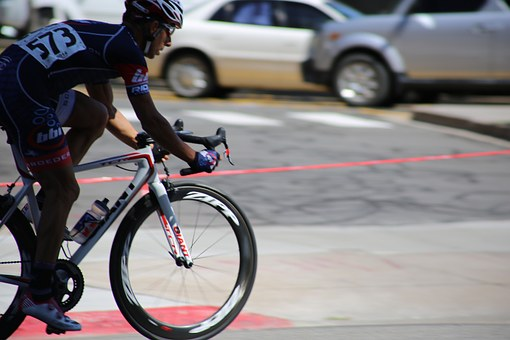bikerider: (2, 1, 256, 340)
